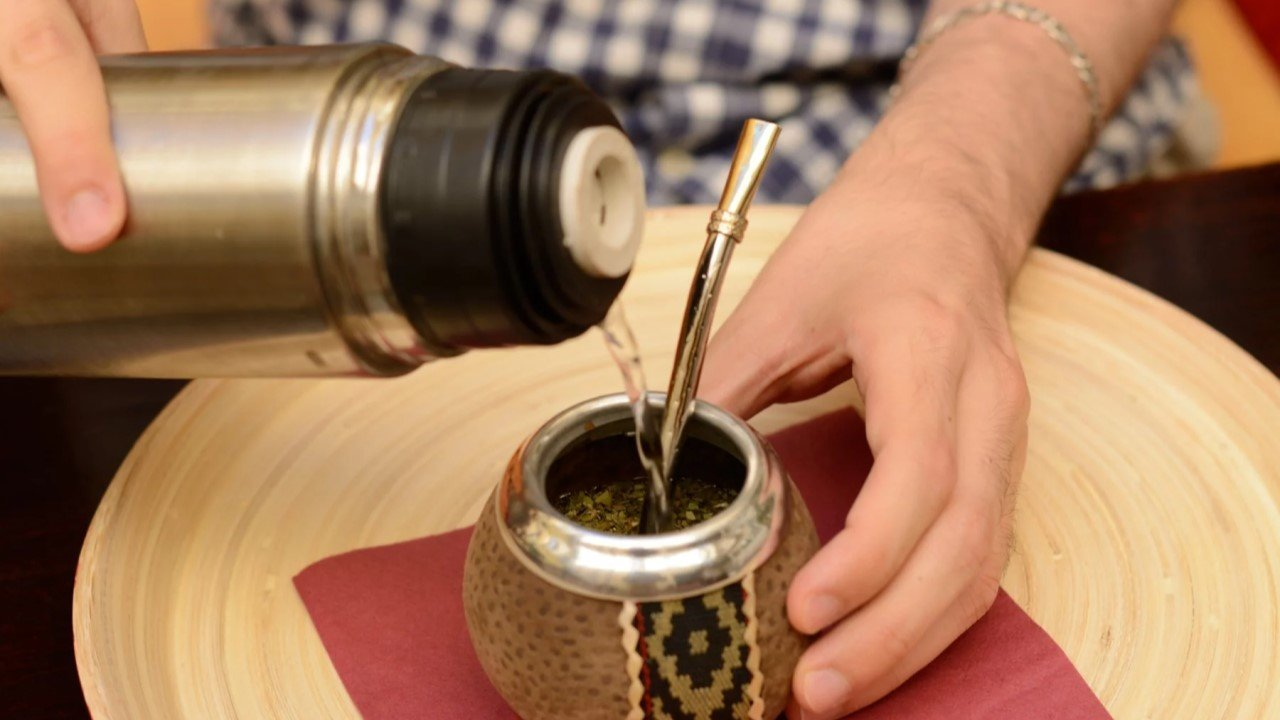calabaza: (463, 380, 827, 718)
mate: (465, 382, 829, 720)
